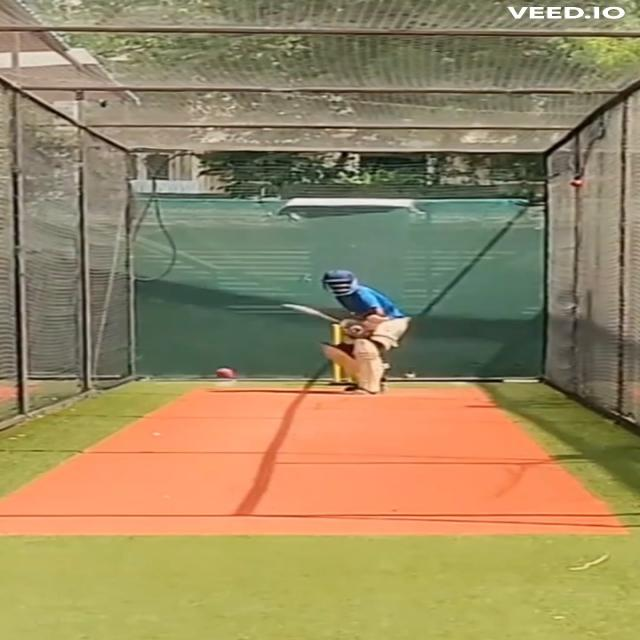ball: (212, 366, 237, 381)
